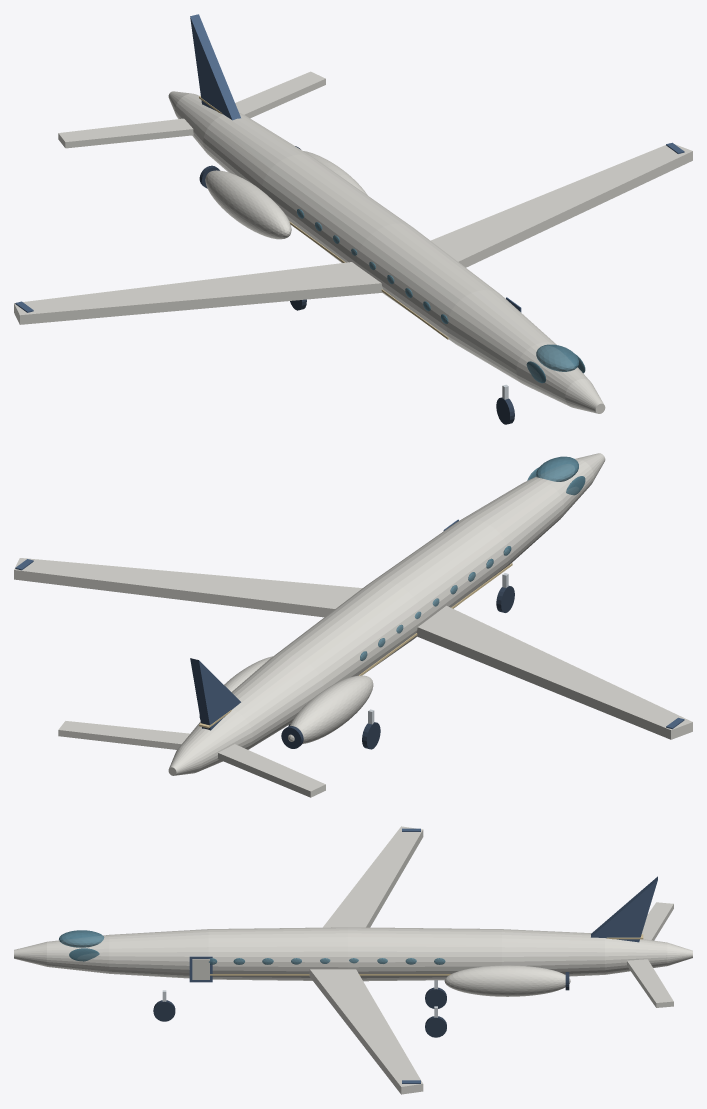
File: aurelius_x1_private_jet.glb
3 views of the same model, one above another, from view 1: azimuth 30°, elevation 25°; view 2: azimuth 150°, elevation 25°; view 3: azimuth 270°, elevation 25° (orthographic). The views are drawn at different scales.
Visible parts, largest first — view 1: Jet_Fuselage_Aurelius_X1, Wing_Left, Wing_Right, Engine_Nacelle_Left, Tailplane_Left, Vertical_Tail_Fin, Tailplane_Right, Cockpit_Crown_Glazing; view 2: Jet_Fuselage_Aurelius_X1, Wing_Right, Wing_Left, Engine_Nacelle_Left, Tailplane_Right, Tailplane_Left, Vertical_Tail_Fin, Cockpit_Crown_Glazing; view 3: Jet_Fuselage_Aurelius_X1, Wing_Right, Wing_Left, Engine_Nacelle_Right, Vertical_Tail_Fin, Tailplane_Right, Tailplane_Left, Cockpit_Crown_Glazing.
Boxes of the visible parts, box(x1,y1,x2,y2) form: Jet_Fuselage_Aurelius_X1: box(168, 91, 605, 413); Wing_Left: box(14, 262, 383, 324); Wing_Right: box(431, 144, 692, 267); Engine_Nacelle_Left: box(205, 170, 291, 239); Tailplane_Left: box(58, 118, 193, 148); Vertical_Tail_Fin: box(190, 14, 240, 120); Tailplane_Right: box(235, 71, 325, 118); Cockpit_Crown_Glazing: box(536, 344, 578, 371); Jet_Fuselage_Aurelius_X1: box(168, 453, 605, 775); Wing_Right: box(14, 558, 362, 617); Wing_Left: box(416, 605, 692, 739); Engine_Nacelle_Left: box(288, 675, 373, 743); Tailplane_Right: box(58, 721, 189, 749); Tailplane_Left: box(217, 744, 325, 797); Vertical_Tail_Fin: box(190, 658, 240, 730); Cockpit_Crown_Glazing: box(536, 456, 578, 481); Jet_Fuselage_Aurelius_X1: box(14, 927, 692, 981); Wing_Right: box(309, 969, 423, 1094); Wing_Left: box(323, 826, 423, 927); Engine_Nacelle_Right: box(444, 965, 570, 996); Vertical_Tail_Fin: box(591, 876, 657, 942); Tailplane_Right: box(627, 959, 673, 1007); Tailplane_Left: box(642, 902, 673, 940); Cockpit_Crown_Glazing: box(59, 930, 104, 947).
Size of the model in its own units: 16.8 by 4.35 by 18.5.
